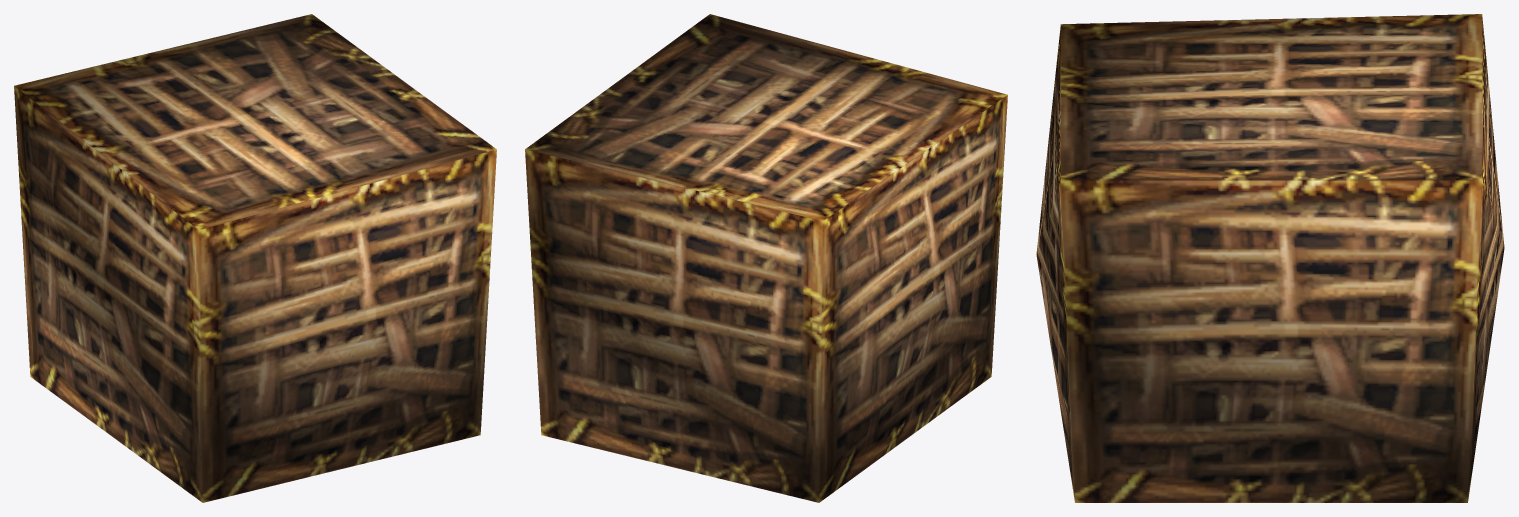
File: orccrate03.obj
The picture shows the model from 3 angles, left to right: view 1: azimuth 30°, elevation 25°; view 2: azimuth 150°, elevation 25°; view 3: azimuth 270°, elevation 25°; orthographic projection. The views are drawn at different scales.
Visible parts, largest first — view 1: orccrate03; view 2: orccrate03; view 3: orccrate03.
Part boxes in pixels (<box>): orccrate03: <box>14,14,496,502</box>; orccrate03: <box>525,14,1007,502</box>; orccrate03: <box>1036,14,1504,502</box>.
Size of the model in its own units: 1.98 by 1.65 by 2.13.
1 material, 1 textured.
